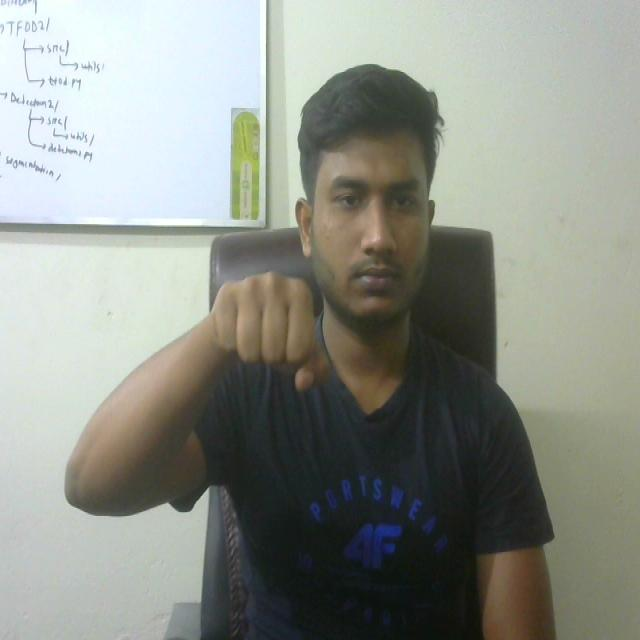Yes: (199, 248, 334, 418)
